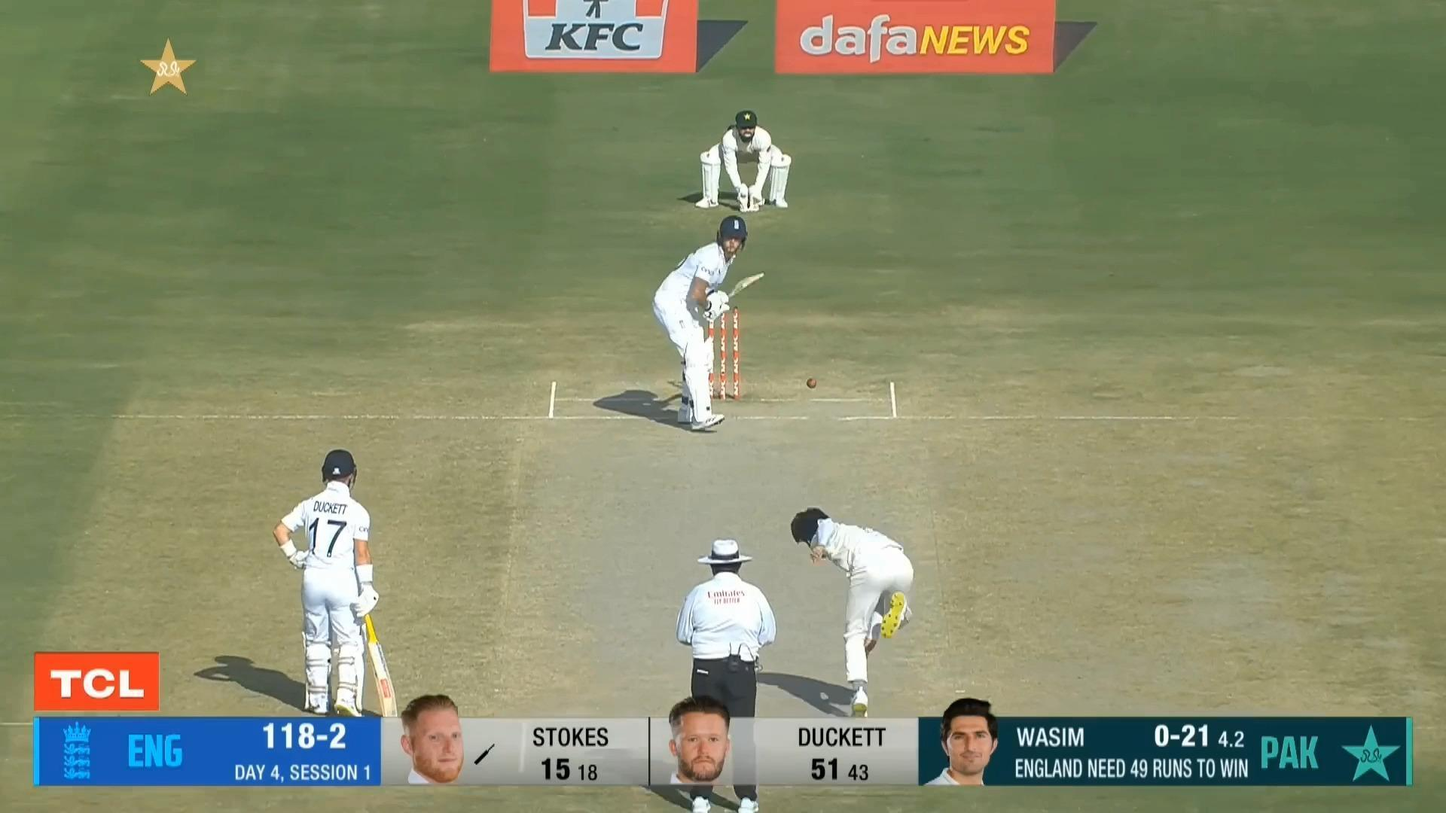BM 1: (270, 447, 382, 720), (650, 215, 766, 432)
BO: (790, 506, 914, 718)
